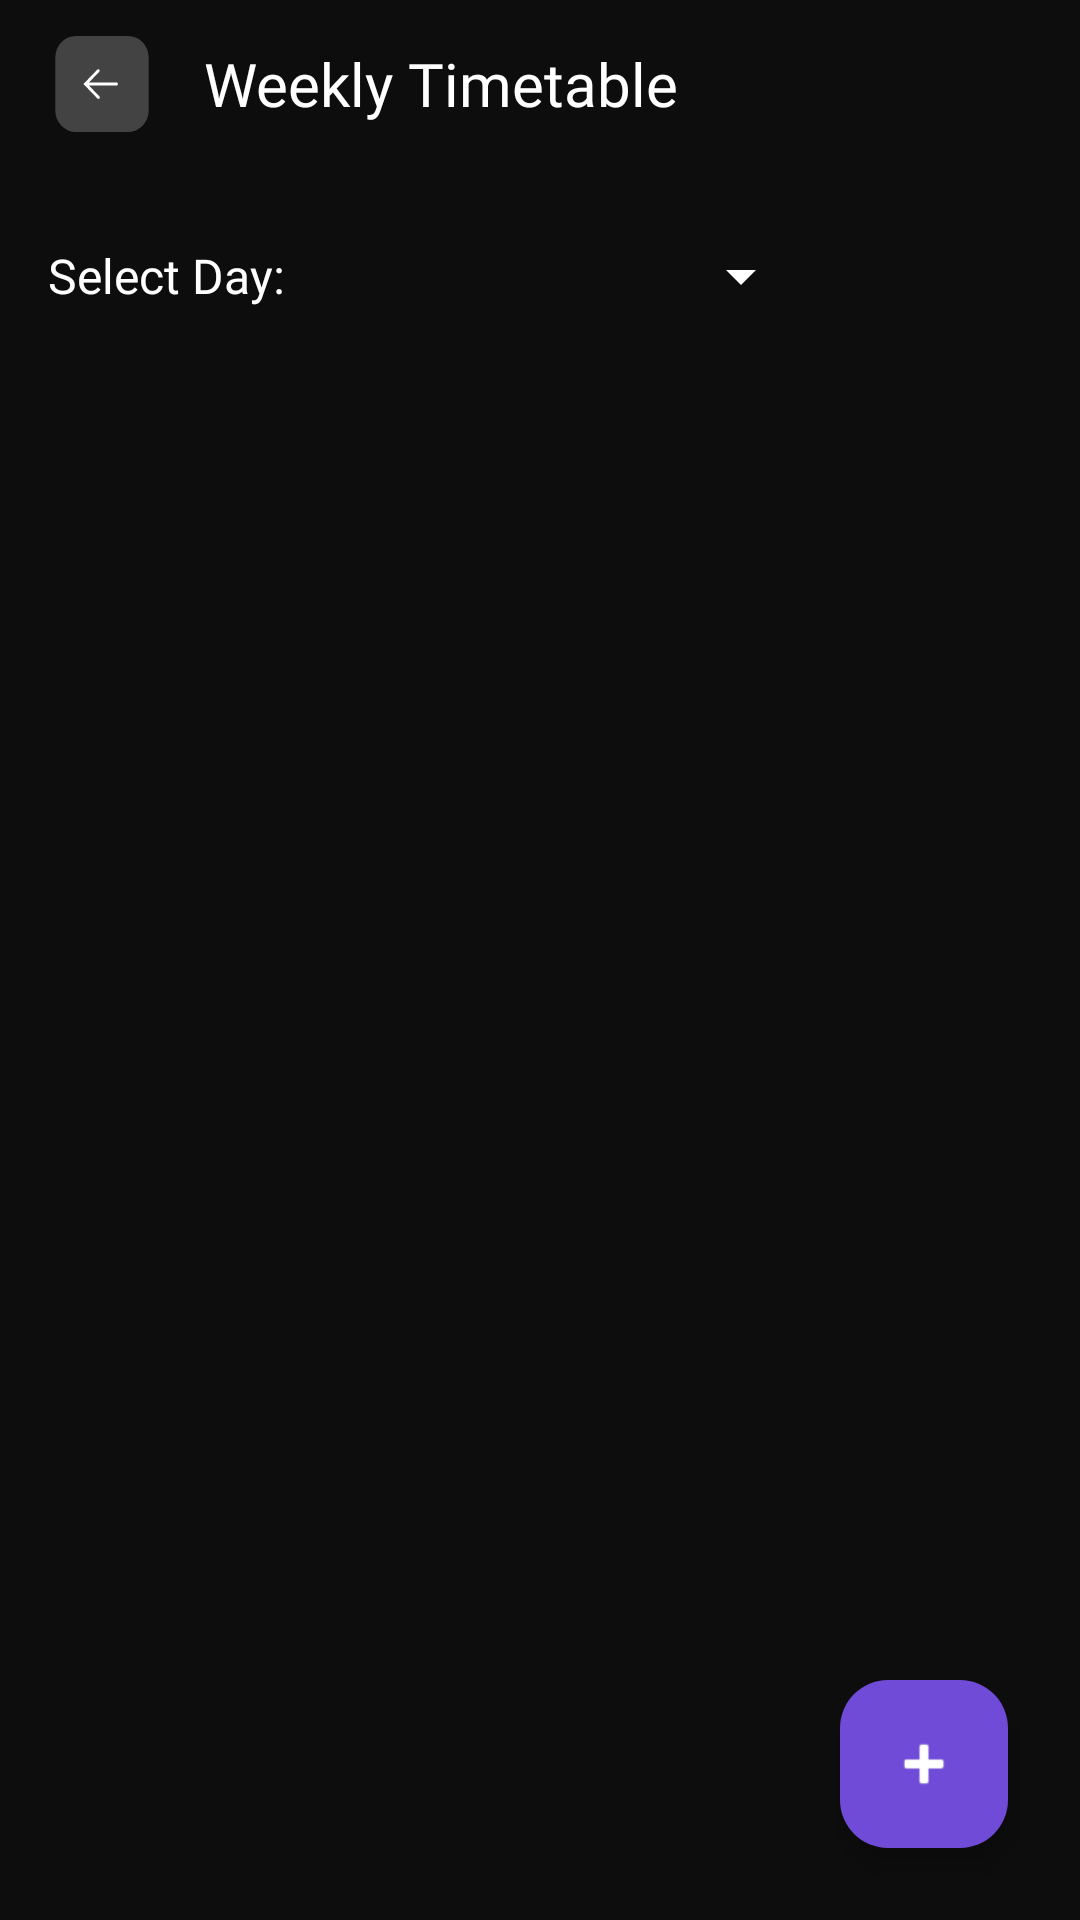

Icons on this 1080px x 1920px Android screen, each with the point to tap as point (x, y):
Add Class Slot: point (924, 1764)
Back Button: point (102, 84)
